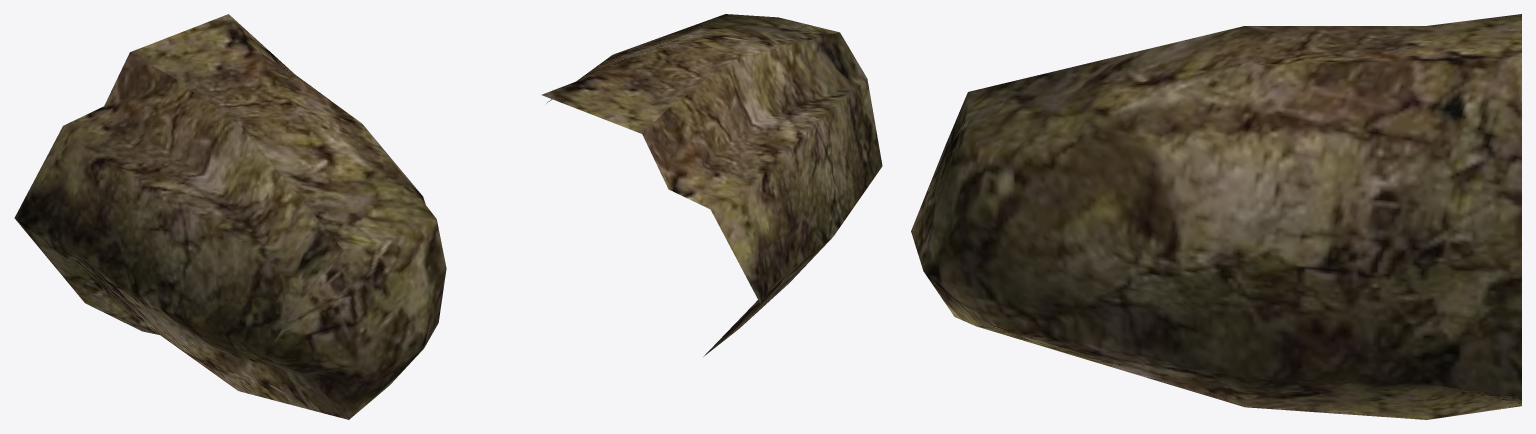
The picture shows the model from 3 angles, left to right: view 1: azimuth 30°, elevation 25°; view 2: azimuth 150°, elevation 25°; view 3: azimuth 270°, elevation 25°; orthographic projection. The views are drawn at different scales.
Visible parts, largest first — view 1: model_Object73; view 2: model_Object73; view 3: model_Object73.
Part boxes in pixels (<box>): model_Object73: <box>14,14,446,419</box>; model_Object73: <box>541,14,882,356</box>; model_Object73: <box>911,14,1521,419</box>.
Bounding box in the file's own units: 1.56 × 1.57 × 2.16.
1 material, 1 textured.
